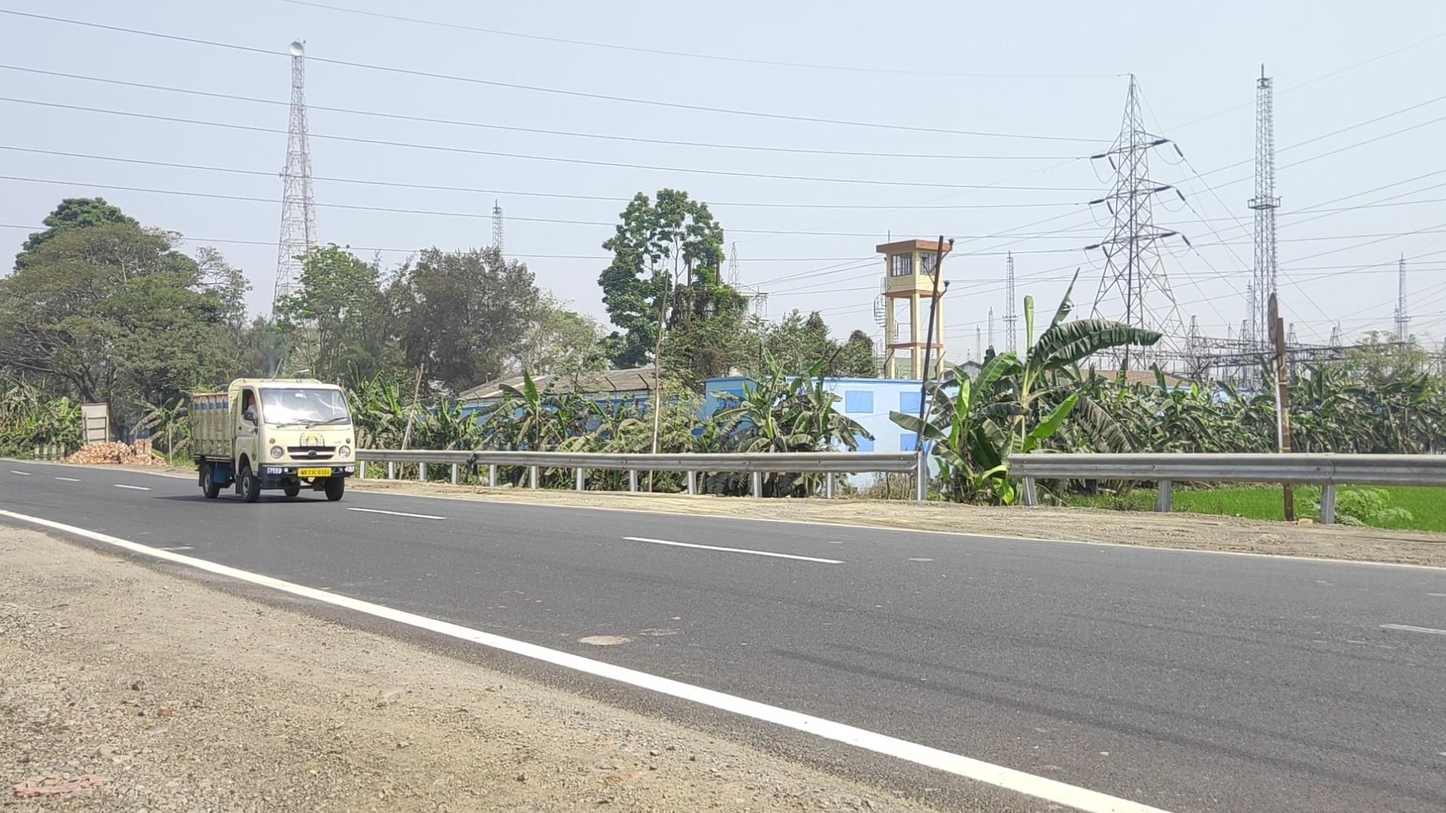van: (193, 377, 356, 504)
